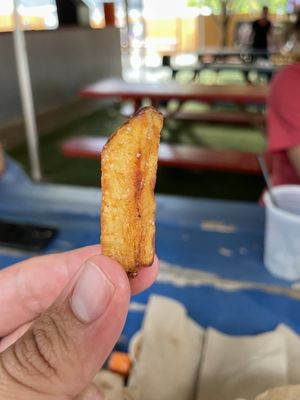pizza: (262, 184, 300, 283)
soup: (100, 106, 165, 277)
